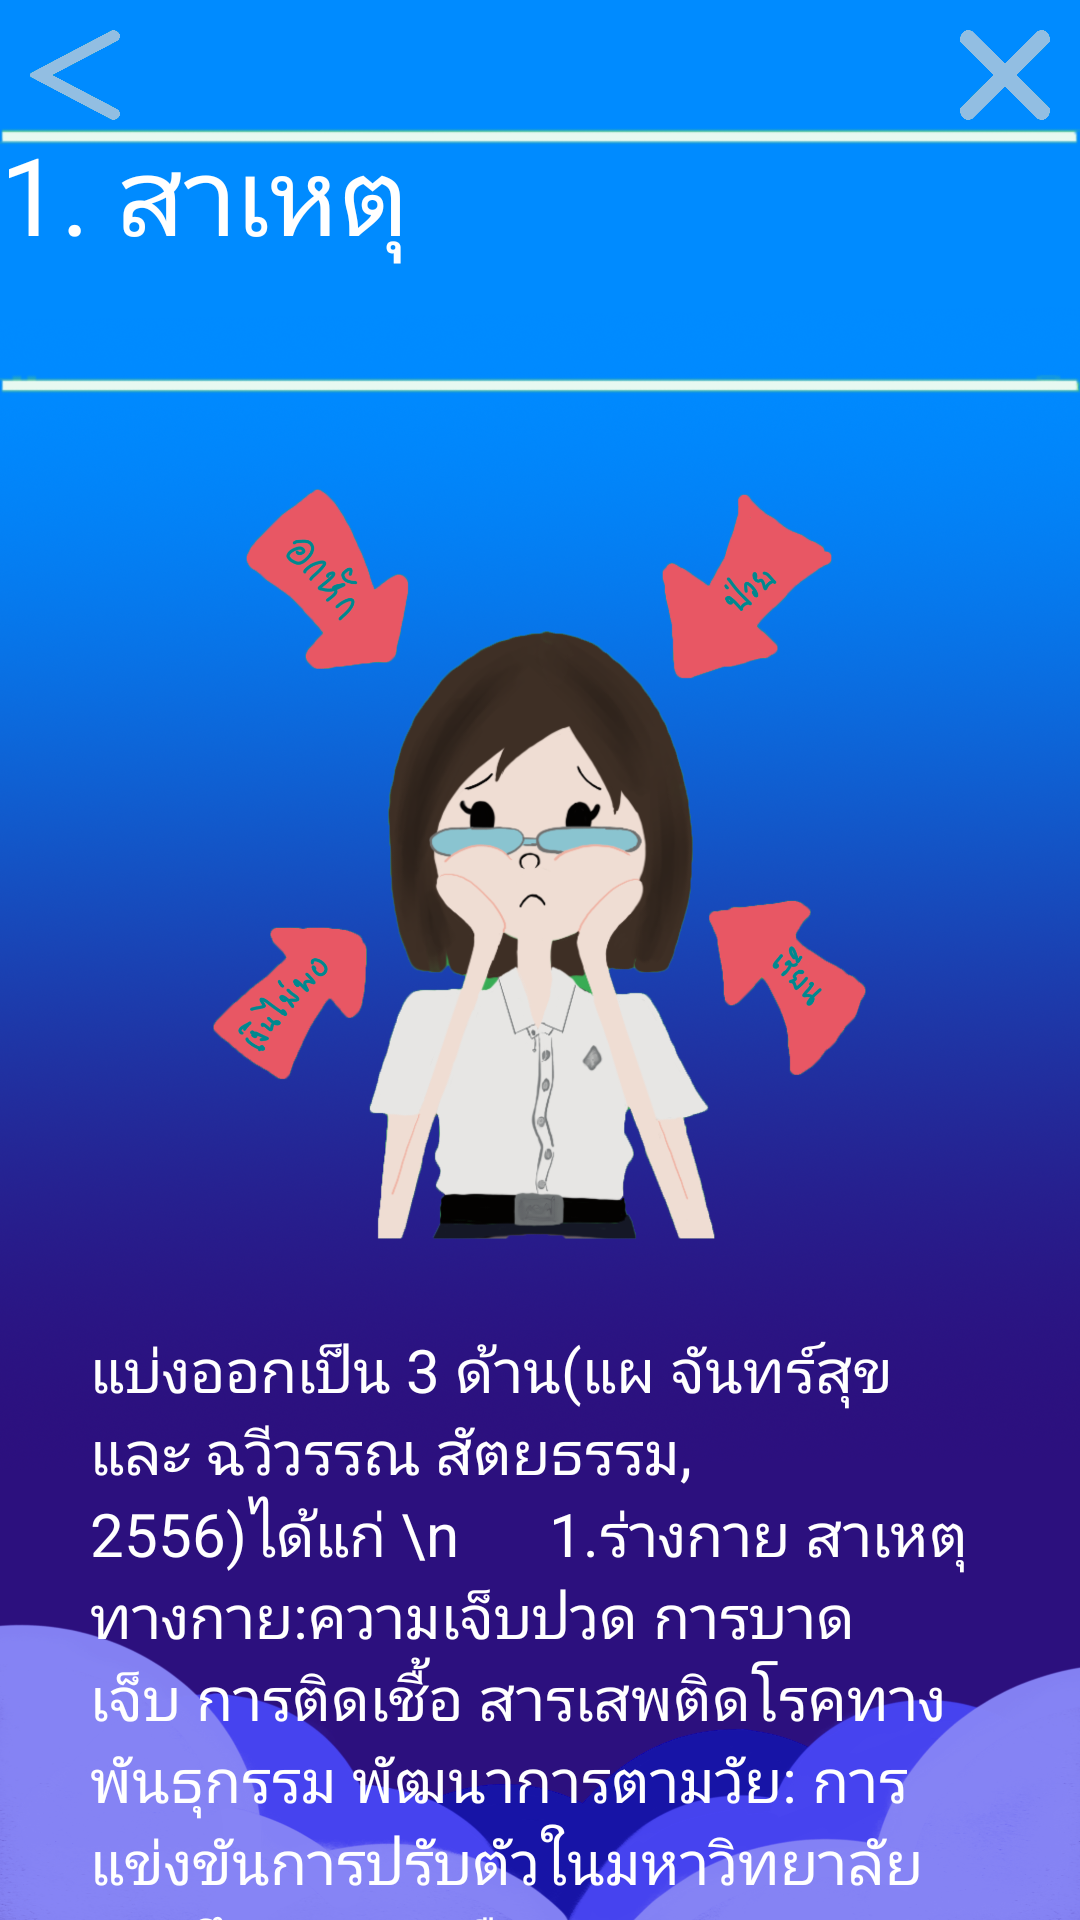

Point at icon controls on the screen. Image size 1080×1920, points as (x=x, y=y).
backbut: (x=75, y=75)
exit: (x=1005, y=75)
